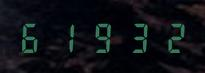nine: (86, 20, 119, 53)
one: (52, 20, 85, 53)
six: (18, 20, 51, 53)
three: (120, 20, 153, 53)
two: (154, 20, 187, 53)
